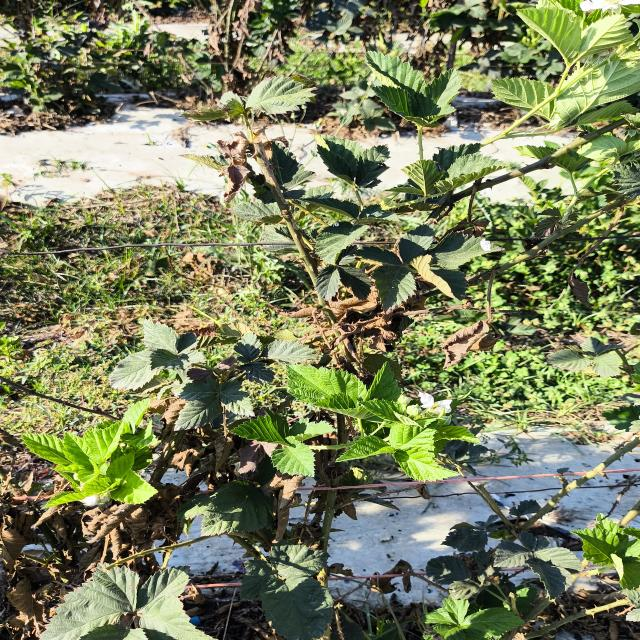boton: (397, 394, 410, 409), (406, 405, 421, 417)
flor: (419, 392, 452, 413)
